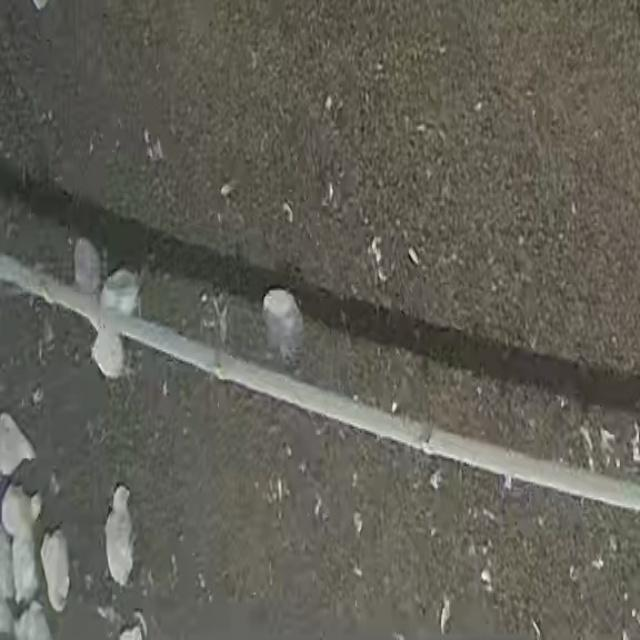chicken: (104, 483, 137, 589), (257, 288, 308, 356), (40, 529, 72, 615), (11, 527, 43, 598), (100, 266, 141, 316), (90, 324, 126, 380), (0, 485, 48, 526), (73, 236, 101, 293)
